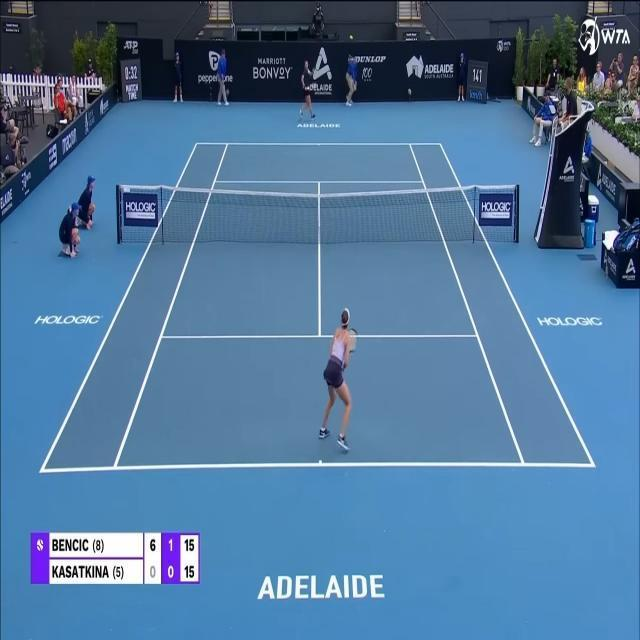court: (36, 140, 598, 475)
net: (114, 181, 523, 246)
player: (318, 307, 358, 452)
